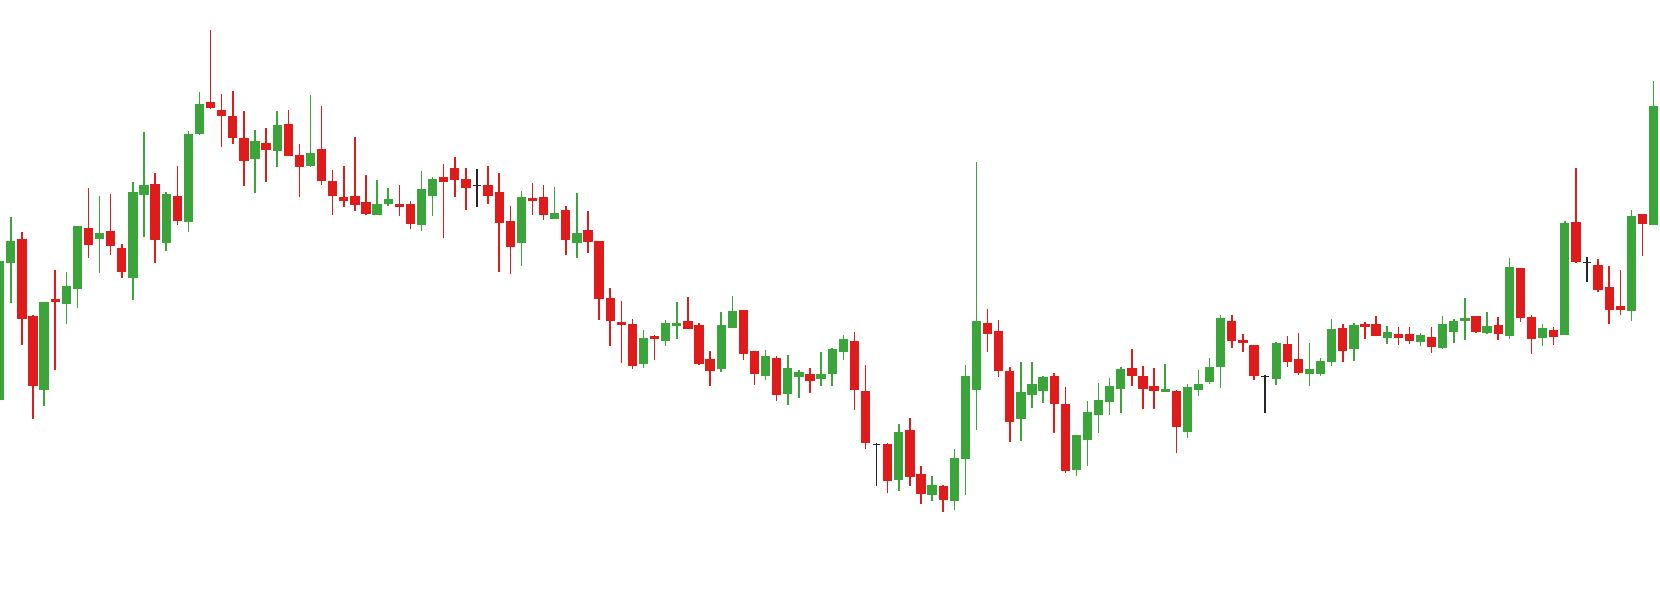buy: (1002, 382, 1083, 480), (1214, 342, 1271, 419)
